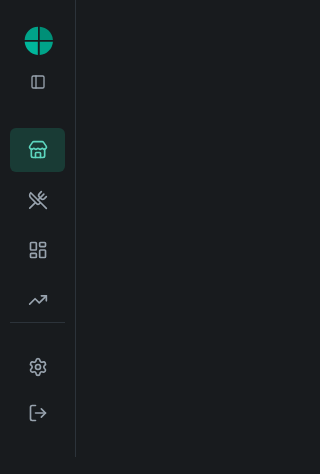
layout controls › collapses and expands the desktop sidebar with an explicit control
The image size is (320, 474).
Expected: the text "Order Line" is not shown
Click the button named "Expand sidebar" at (38, 82), box [24,68,52,96]
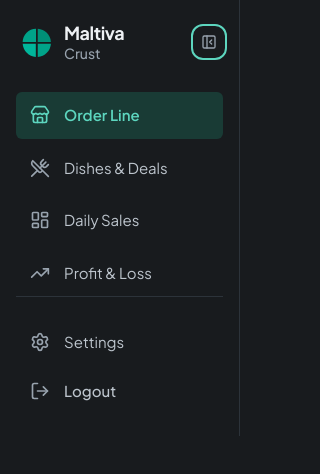
Expected: the text "Order Line" is shown, [64,104,140,126]
Click the button named "Collapse sidebar" at (209, 42), box [195,28,223,56]
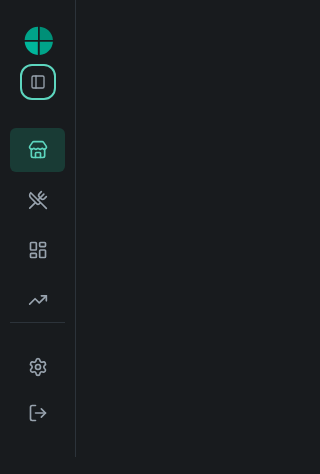
Expected: the button named "Expand sidebar" is shown, [24,68,52,96]
Expected: the text "Order Line" is gone
